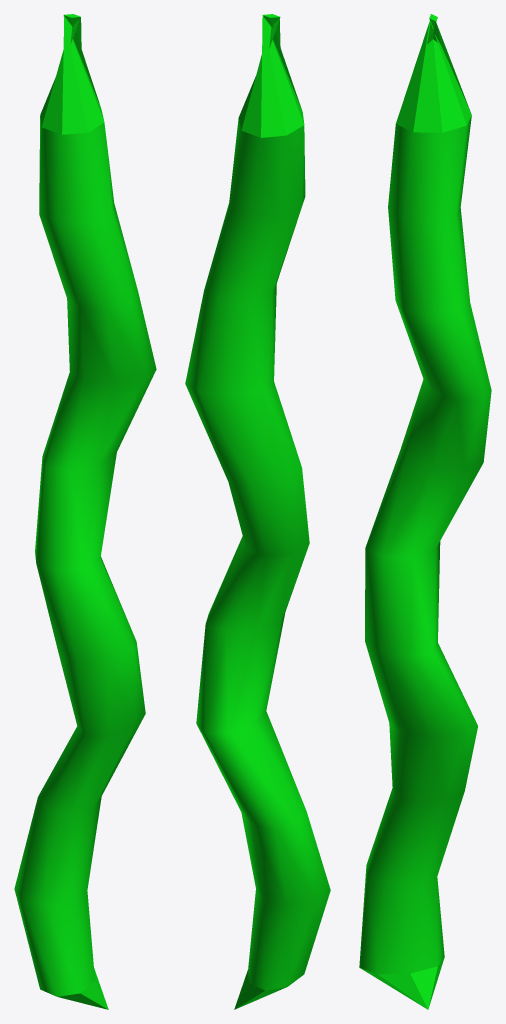
The model's file is Vine[Twisted].FBX.
The picture shows the model from 3 angles, left to right: view 1: azimuth 30°, elevation 25°; view 2: azimuth 210°, elevation 25°; view 3: azimuth 330°, elevation 25°; orthographic projection. The views are drawn at different scales.
Visible parts, largest first — view 1: Cylinder001; view 2: Cylinder001; view 3: Cylinder001.
Part boxes in pixels (x1,y1,x2,y2): Cylinder001: (14,14,156,1009); Cylinder001: (185,14,330,1009); Cylinder001: (359,14,491,1009).
Size of the model in its own units: 46.6 by 349 by 40.04.
